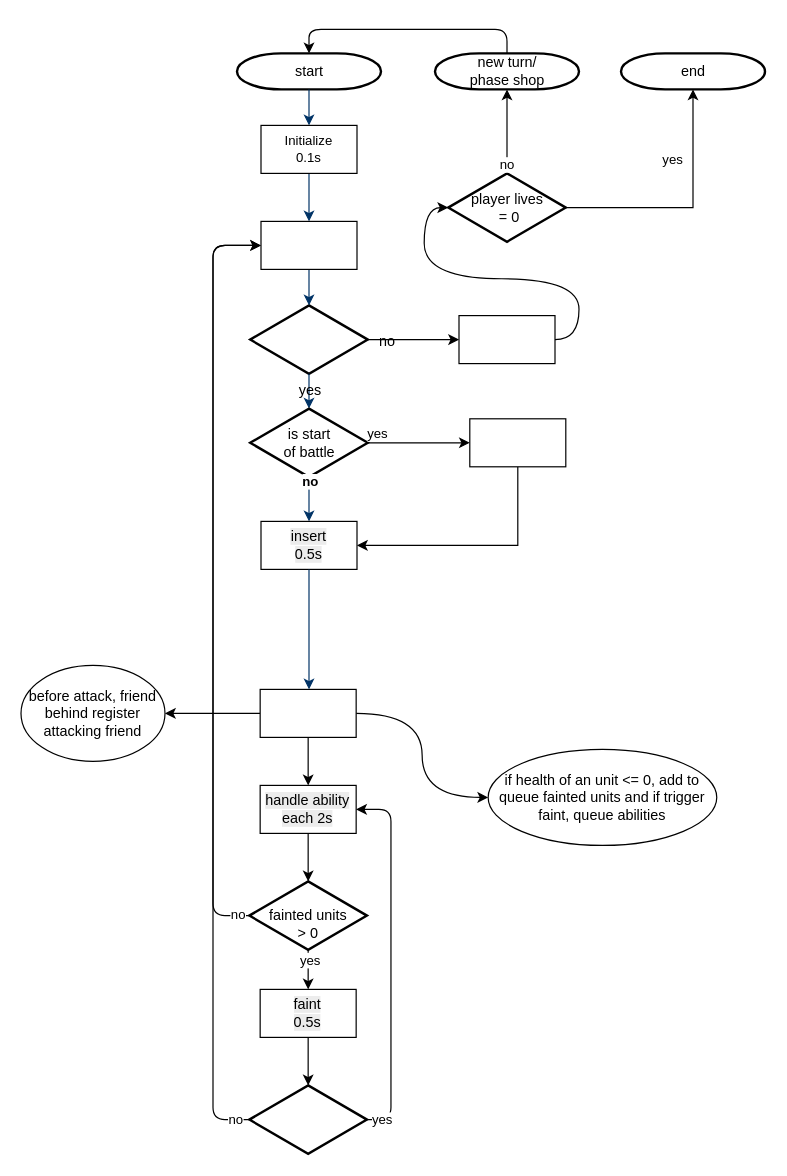
This 787x1176 diagram has some shape labels left out. Here are the shapes that lost their labels. From the top down, the centre of each, then its label:
At pixel 308 244: "check outcome 1s".
At pixel 308 339: "is anyone there".
At pixel 506 339: "battle over 1s".
At pixel 517 442: "start of battle (not implement yet)".
At pixel 307 712: "attack 0.5s".
At pixel 308 1119: "abilities > 0".
